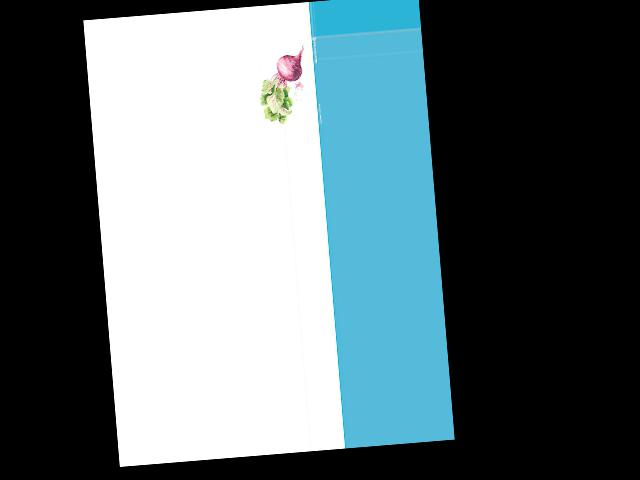beet: (256, 45, 310, 126)
